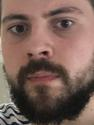without_mask: (1, 1, 94, 125)
